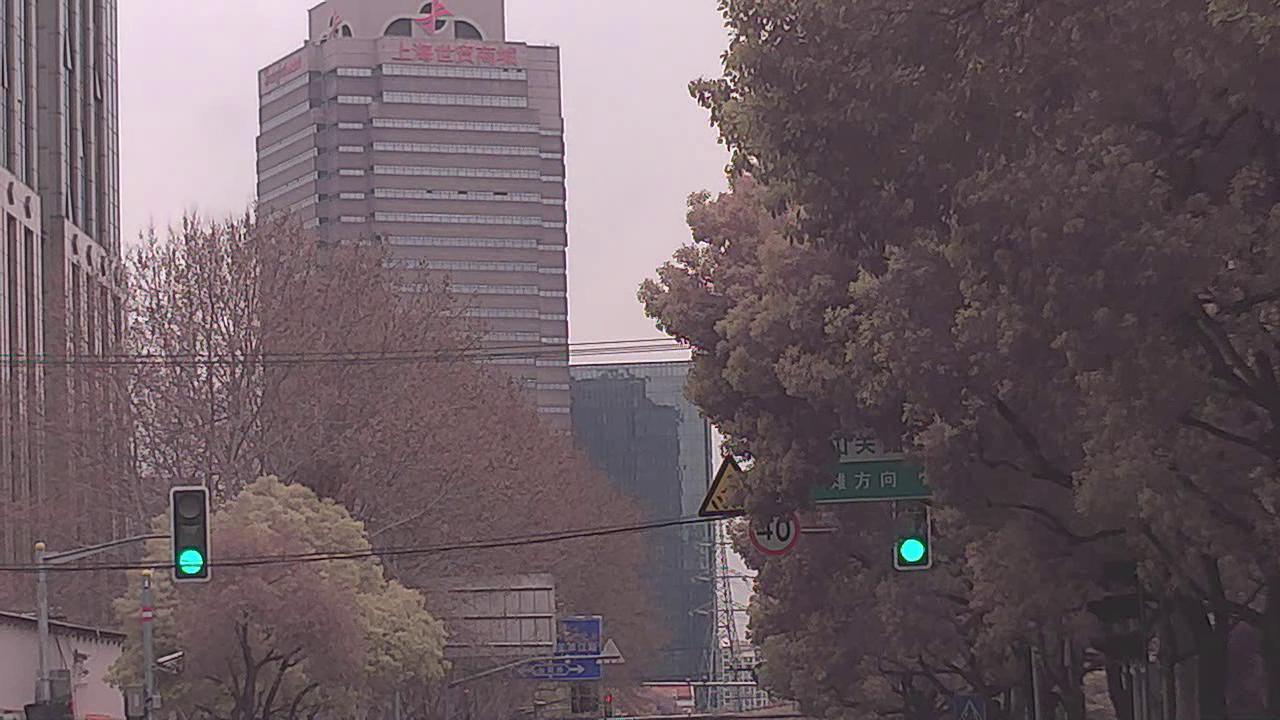traffic_light: (173, 491, 209, 581), (604, 691, 615, 713)
